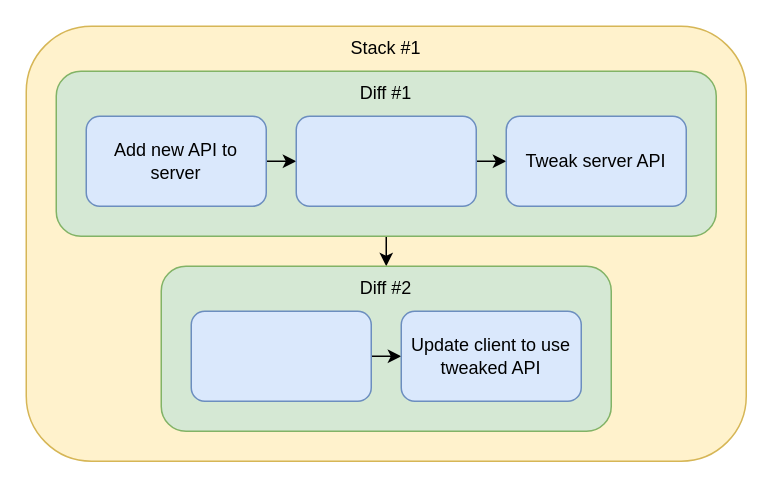
Some shapes in this 773 by 488 pixel diagram are drawn without their labels. Here are the shapes that lost their labels. From the top down, the centre of each, then its label:
At (x=385, y=160): "Fix bug in server".
At (x=280, y=355): "Make use of new API in client".
